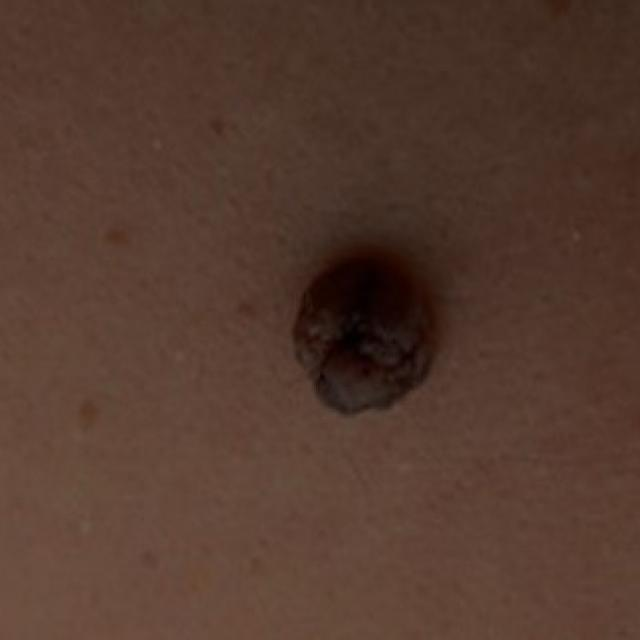wart: (261, 210, 488, 442)
